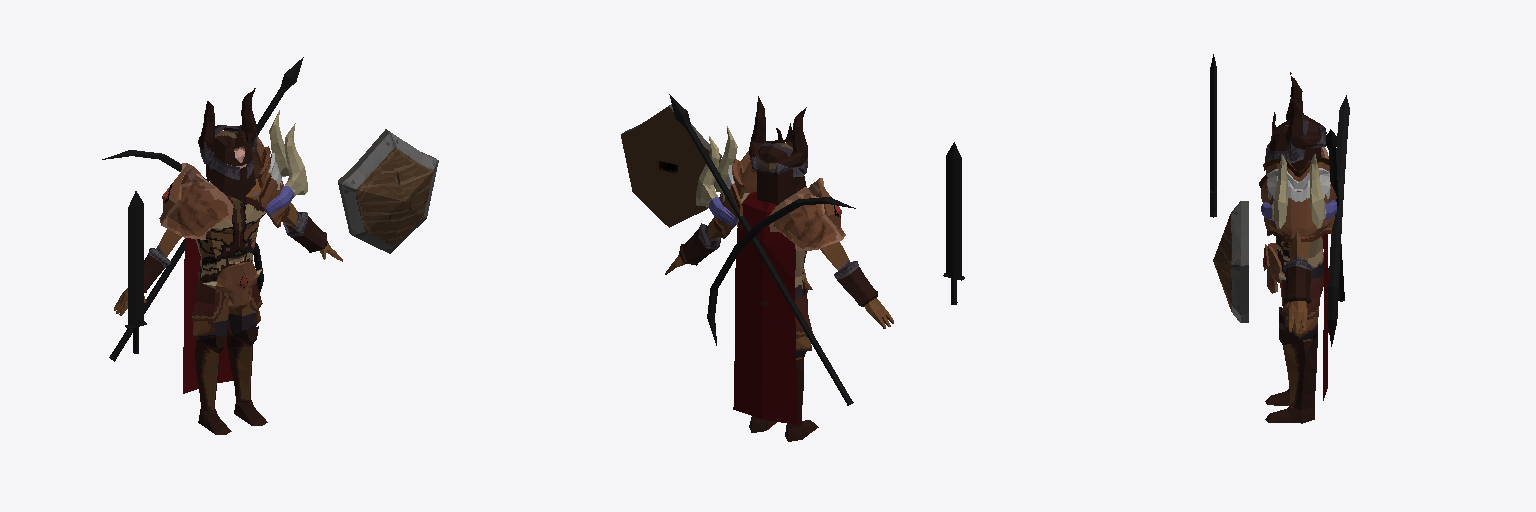
3 views of the same model, side by side, from view 1: azimuth 30°, elevation 25°; view 2: azimuth 150°, elevation 25°; view 3: azimuth 270°, elevation 25° (orthographic).
Visible parts, largest first — view 1: SilverDuke_SilverDuke_Mesh; view 2: SilverDuke_SilverDuke_Mesh; view 3: SilverDuke_SilverDuke_Mesh.
Part boxes in pixels (bbox=[...]): SilverDuke_SilverDuke_Mesh: bbox=[102, 57, 438, 434]; SilverDuke_SilverDuke_Mesh: bbox=[621, 94, 964, 441]; SilverDuke_SilverDuke_Mesh: bbox=[1210, 54, 1349, 423].
Size of the model in its own units: 4.83 by 4.64 by 1.79.
Materials: 11 (8 with a texture image).